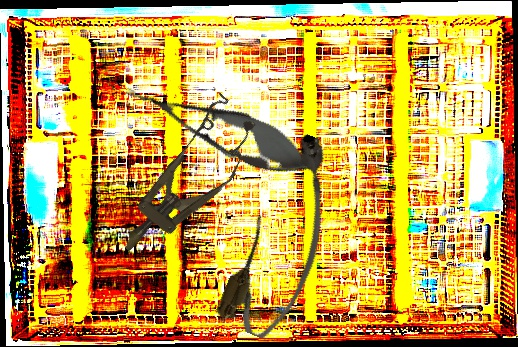Cannula: (212, 128, 360, 346)
Micro Scissor: (116, 67, 321, 190)
Speculum: (101, 91, 270, 272)
